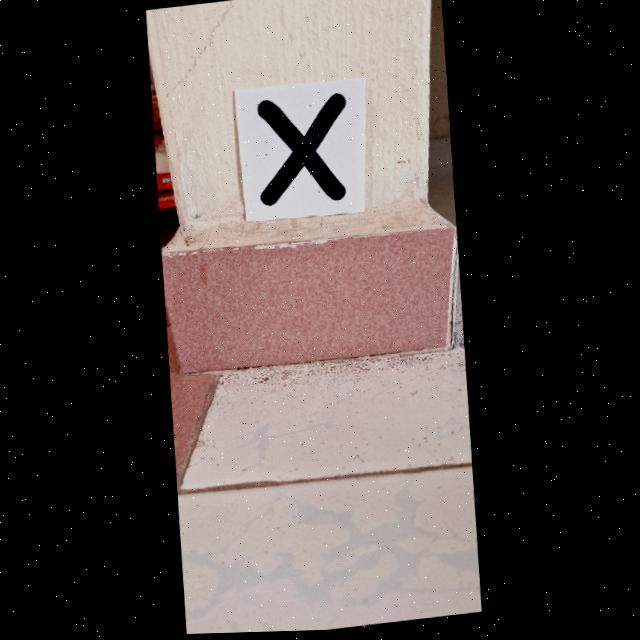X: (257, 96, 346, 207)
